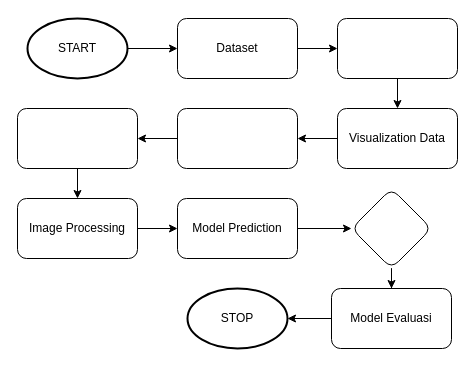
This 475x366 diagram has some shape labels left out. The centre of each missing label's shape, as x and y in pixels:
"CNN (Model Architecture)" goes at (x=237, y=138).
"Prediction Result" goes at (x=391, y=228).
"Preprocessing Data" goes at (x=397, y=48).
"Training Model" goes at (x=77, y=138).
